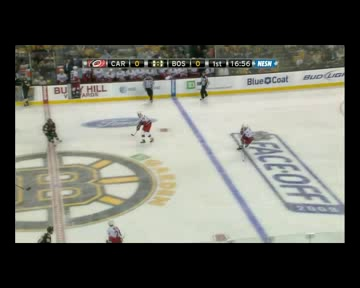normal: (39, 112, 73, 150), (130, 108, 155, 151)
